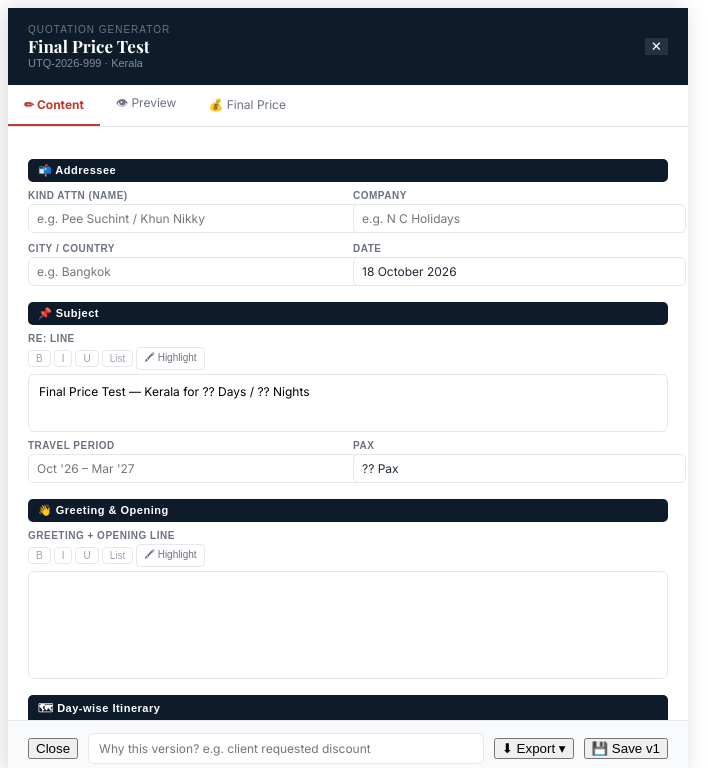
Test: Final Price Agreement tab: Pax Paying vs FOC › FOC counts toward total confirmed pax but not toward tour value -- the actual 18 paying + 1 FOC example
Click the button "💰 Final Price". click: (247, 106)
box: [192,85,302,126]
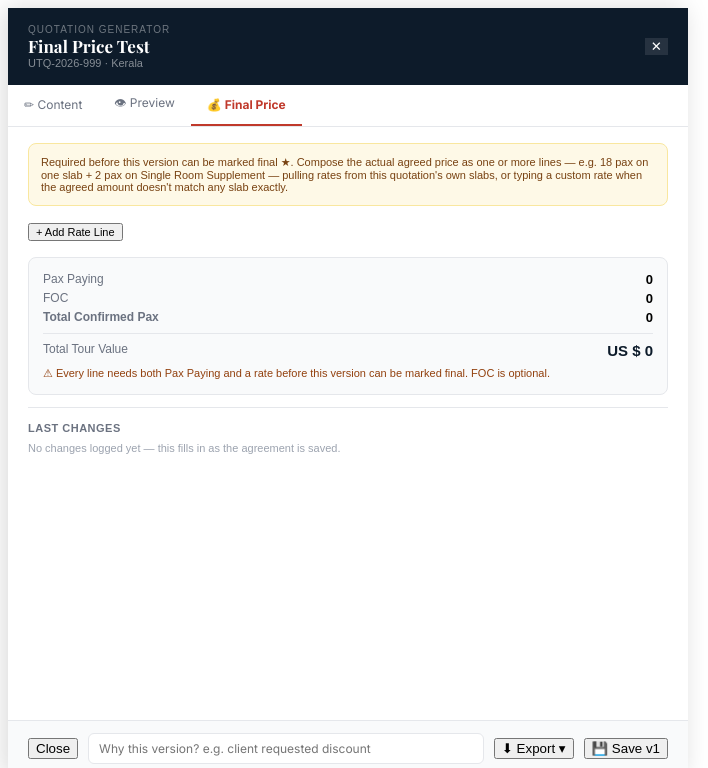
Click the button "+ Add Rate Line". click: (75, 232)
box: [28,223,123,241]
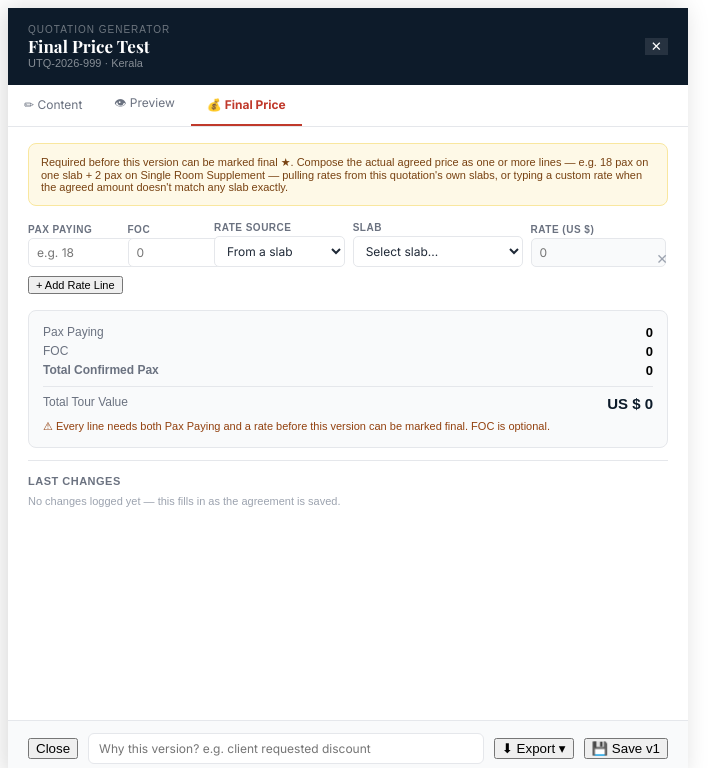
Select "Custom rate" in the dropdown below "Rate Source". click: (279, 252)
box: [214,236,345,267]
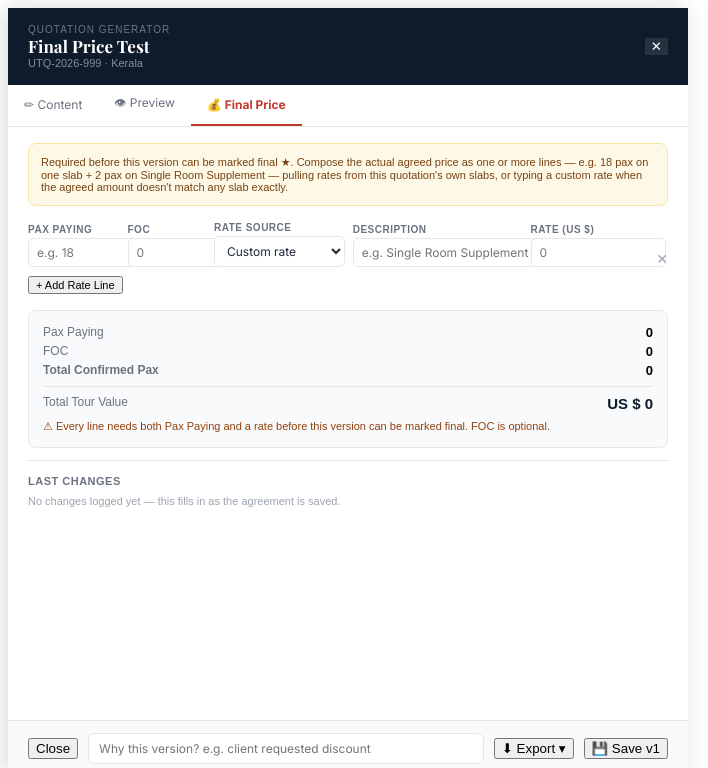
Type "18" into the number field with placeholder "e.g. 18". click: (83, 252)
box: [28,238,138,267]
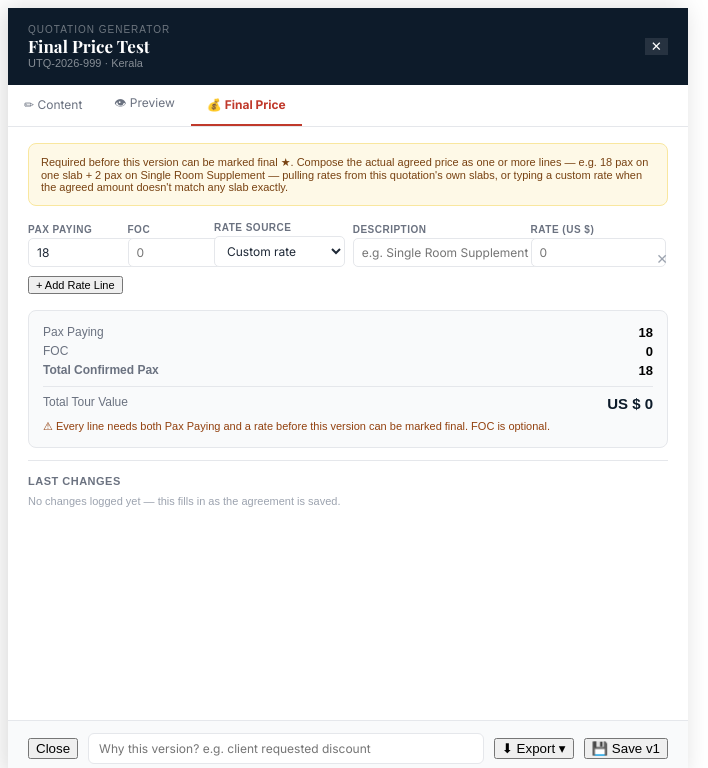
Type "1" into the 1st number field with placeholder "0". click: (176, 252)
box: [128,238,224,267]
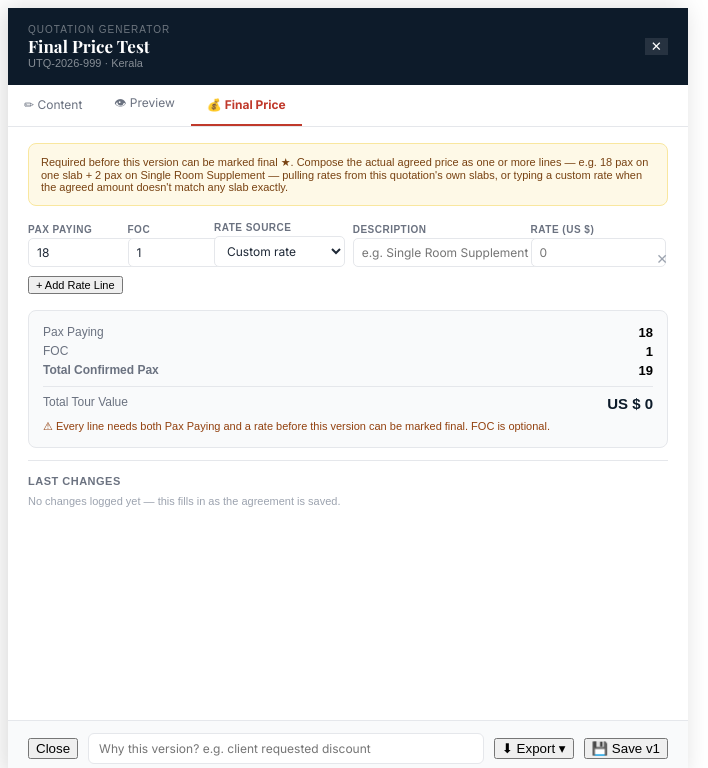
Type "237" into the number field with placeholder "0". click: (598, 252)
box: [531,238,666,267]
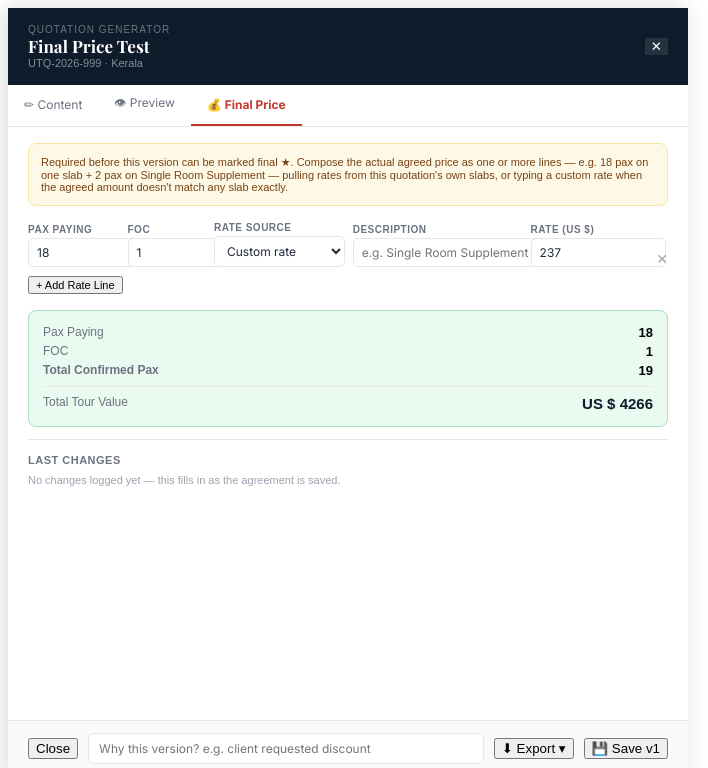
Check: the text "18" is shown, box [638,325,653,340]
Check: the text "19" is shown, box [638,363,653,378]
Check: the text "US $ 4266" is shown, box [582,395,653,412]
